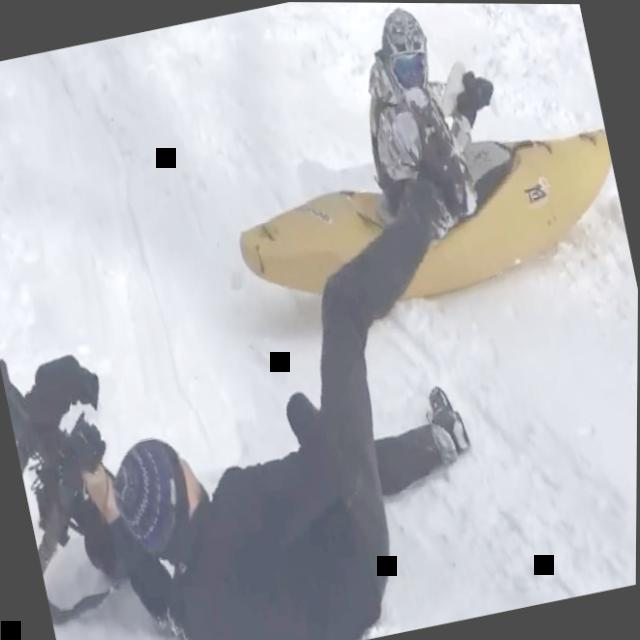Fall-Detected: (18, 130, 569, 640)
